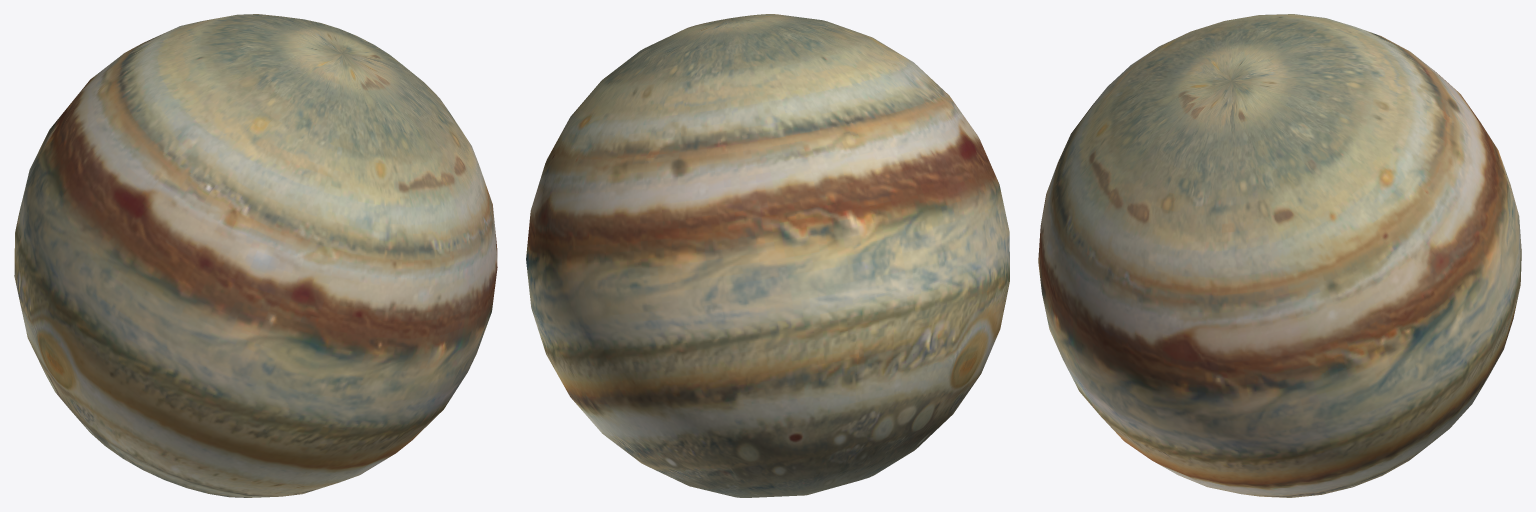
Rendered from jupiter.fbx.
3 renders of one model, left to right at view 1: azimuth 30°, elevation 25°; view 2: azimuth 150°, elevation 25°; view 3: azimuth 270°, elevation 25°, orthographic.
Visible parts, largest first — view 1: jupiter; view 2: jupiter; view 3: jupiter.
Part boxes in pixels (x1=…): jupiter: x1=14, y1=14, x2=497, y2=497; jupiter: x1=526, y1=14, x2=1009, y2=497; jupiter: x1=1038, y1=14, x2=1521, y2=497.
Bounding box in the file's own units: 44.88 × 44.93 × 44.87.
1 material, 1 textured.
